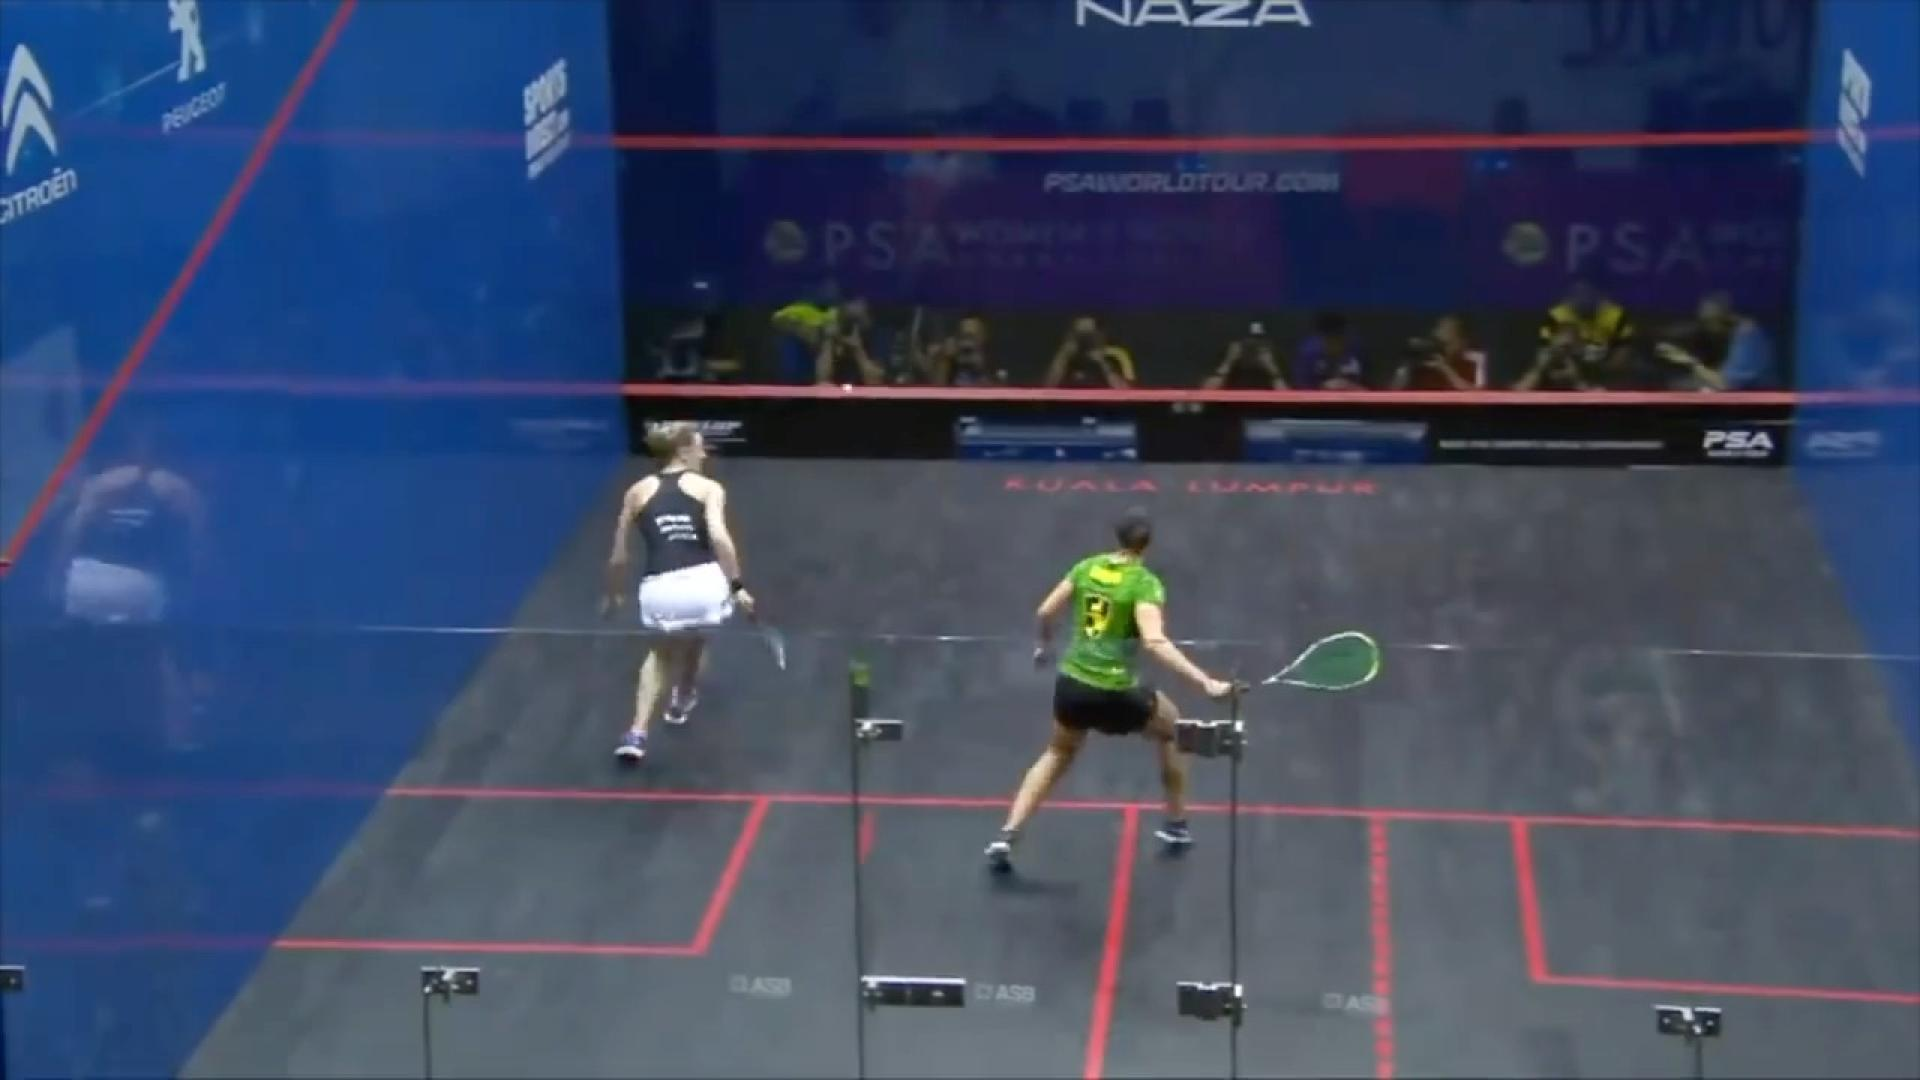Squash-Ball: (825, 371, 862, 405)
